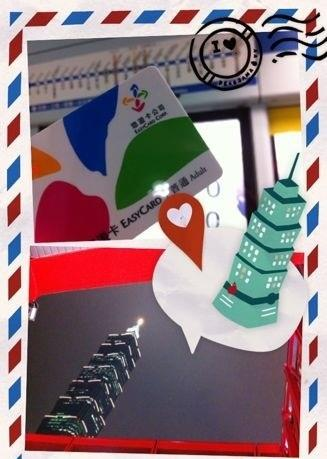Taiwan_EasyCard: (25, 70, 222, 246)
